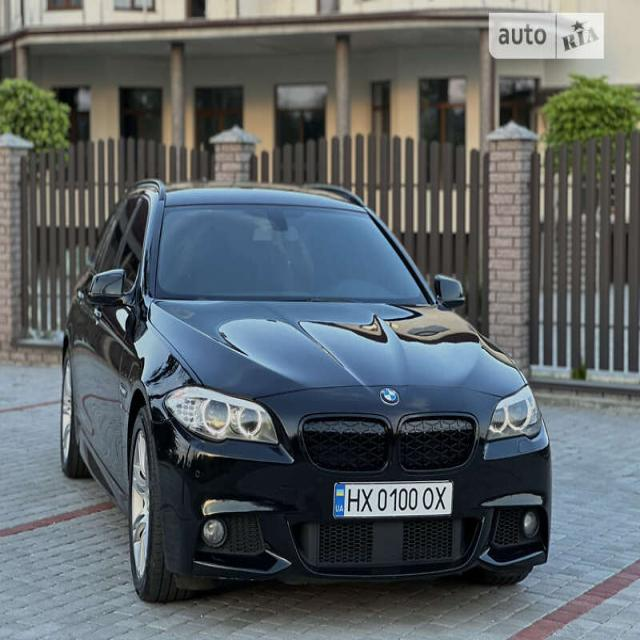plate: (332, 469, 456, 529)
